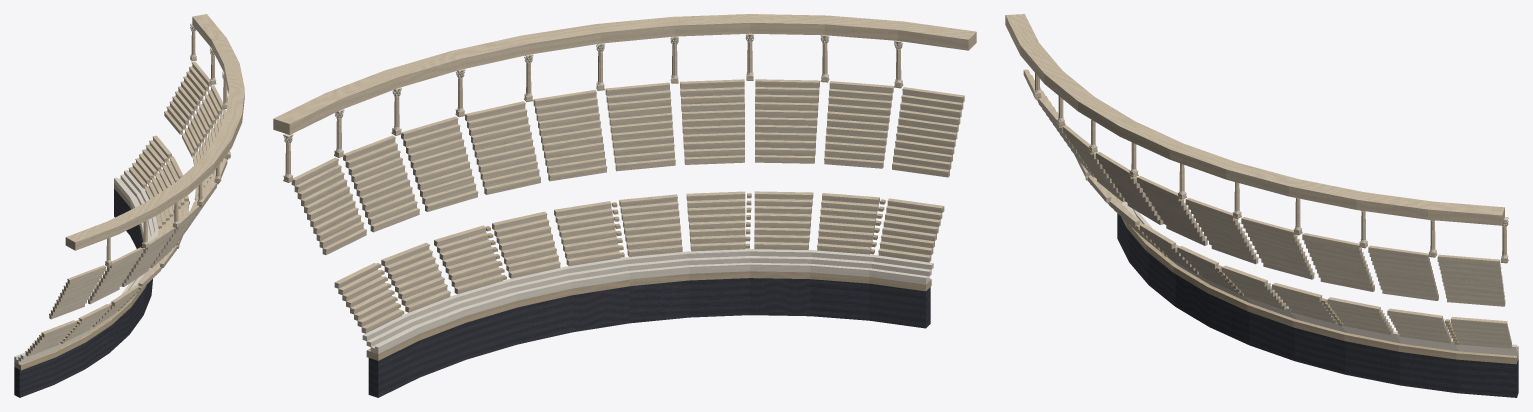
Rendered from COL_CaveaSeating_Q1.obj.
3 views of the same model, side by side, from view 1: azimuth 30°, elevation 25°; view 2: azimuth 150°, elevation 25°; view 3: azimuth 270°, elevation 25° (orthographic). The views are drawn at different scales.
Visible parts, largest first — view 1: COL_CaveaSeating_Q1; view 2: COL_CaveaSeating_Q1; view 3: COL_CaveaSeating_Q1.
Part boxes in pixels (left/top/right/bottom): COL_CaveaSeating_Q1: left=14, top=14, right=244, bottom=397; COL_CaveaSeating_Q1: left=273, top=14, right=976, bottom=397; COL_CaveaSeating_Q1: left=1005, top=14, right=1518, bottom=397.
Size of the model in its own units: 113 by 58.2 by 118.
7 materials, 7 textured.
